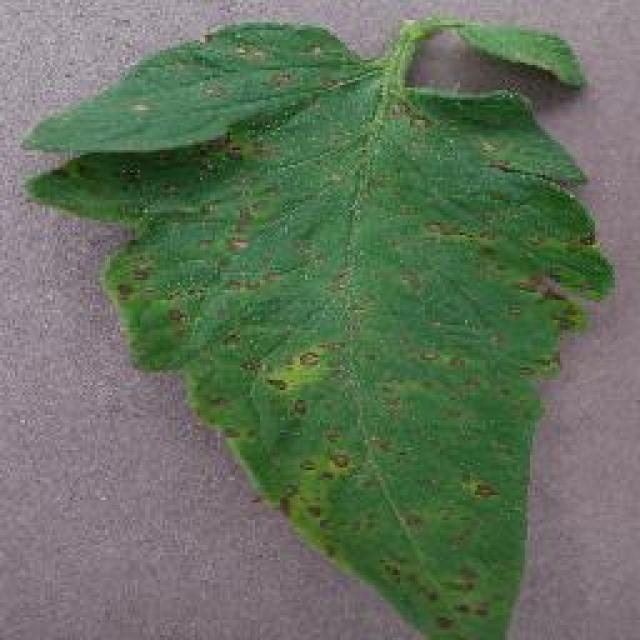Tomato___Septoria_leaf_spot: (28, 18, 610, 638)
